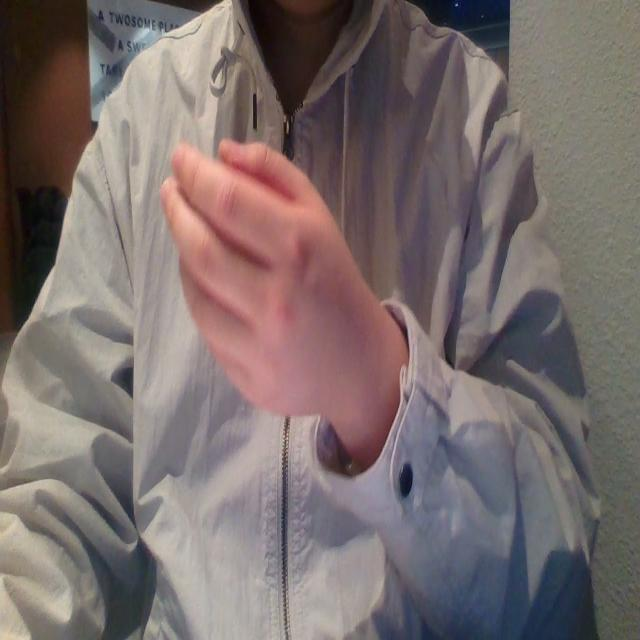hand: (158, 126, 376, 466)
